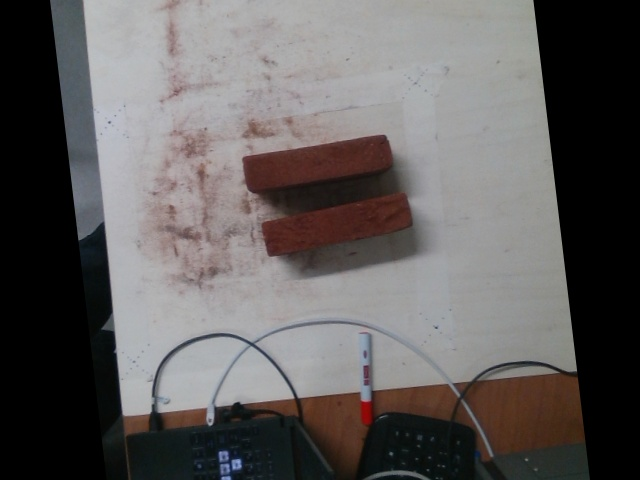brick-side: (263, 193, 415, 255), (244, 135, 389, 190)
